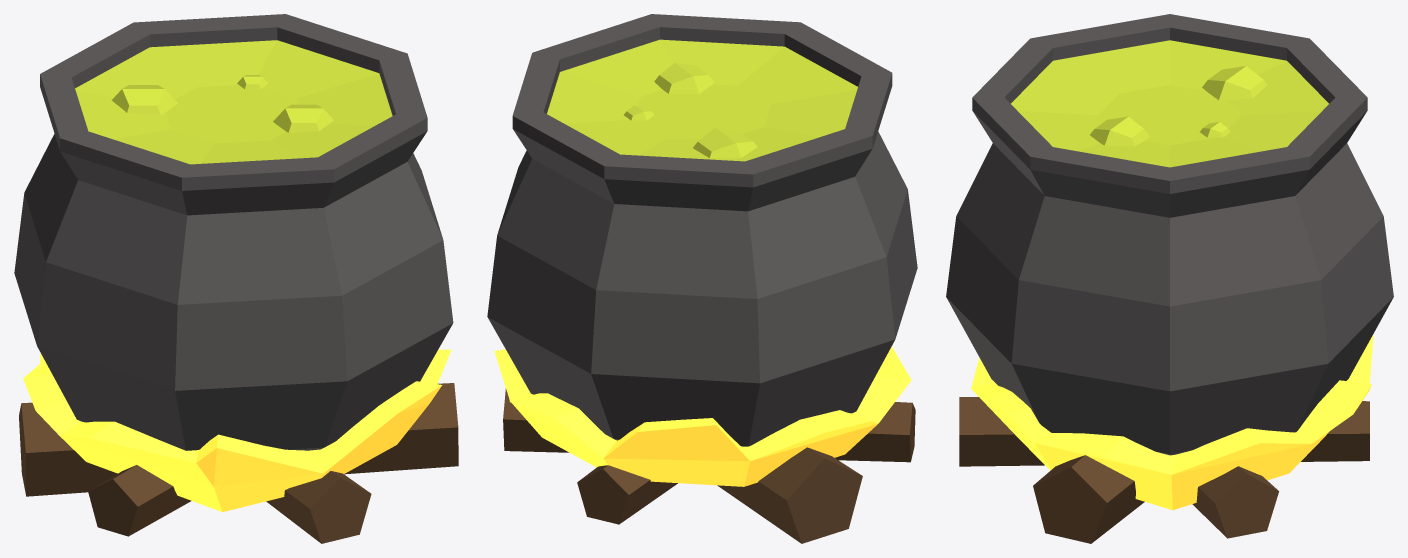
File: kettle.glb
3 views of the same model, side by side, from view 1: azimuth 30°, elevation 25°; view 2: azimuth 150°, elevation 25°; view 3: azimuth 270°, elevation 25° (orthographic). The views are drawn at different scales.
Visible parts, largest first — view 1: kettle; view 2: kettle; view 3: kettle.
Part boxes in pixels (<box>): kettle: <box>14,14,458,543</box>; kettle: <box>487,14,917,543</box>; kettle: <box>946,14,1393,543</box>.
Bounding box in the file's own units: 0.9777 × 0.9021 × 0.9777.
Materials: 1 (1 with a texture image).
